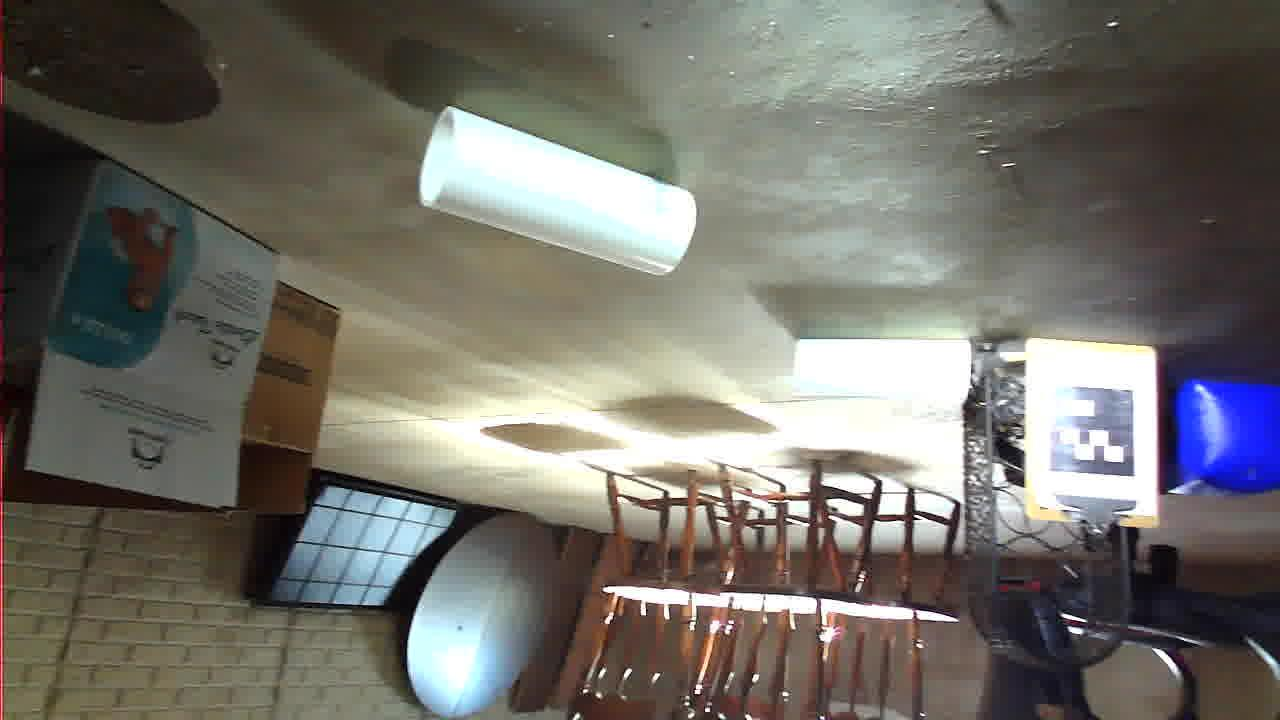coral: (577, 437, 866, 618)
